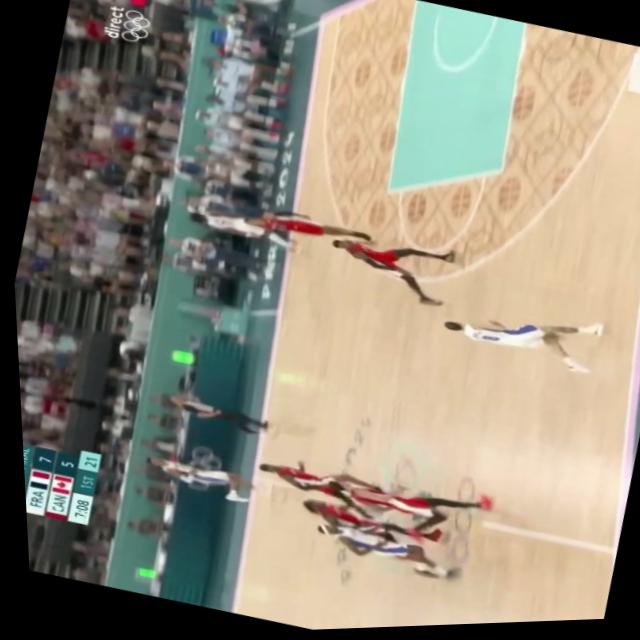ball_handler: (444, 322, 600, 377)
